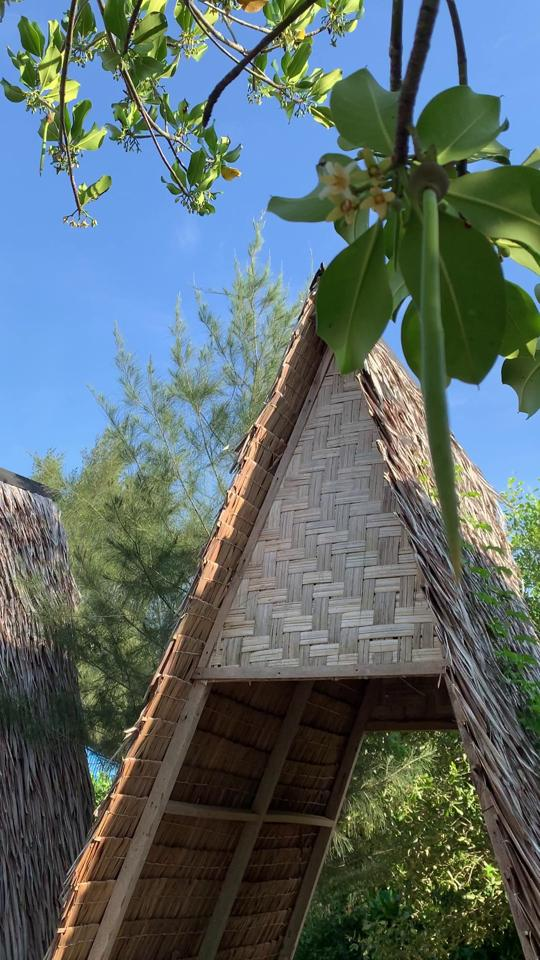mentah: (391, 152, 482, 597)
